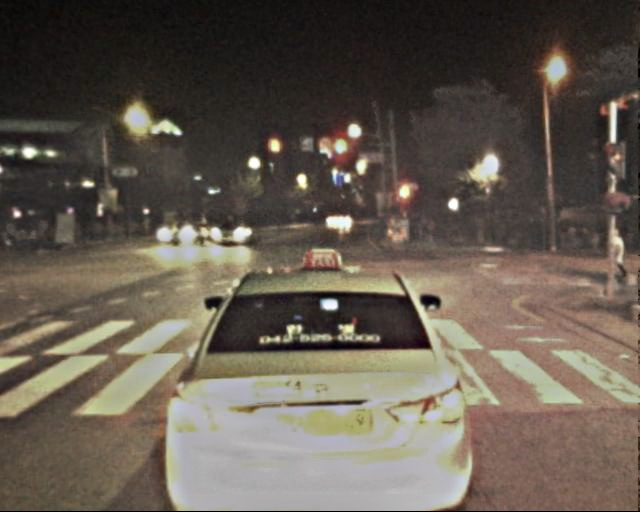person: (605, 226, 630, 287), (409, 214, 443, 247), (3, 213, 29, 248), (37, 214, 54, 255)
